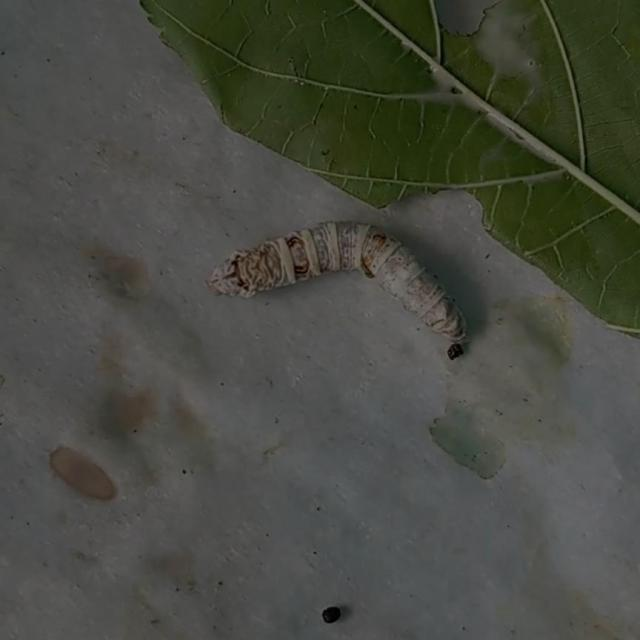Grasserie: (210, 206, 492, 350)
